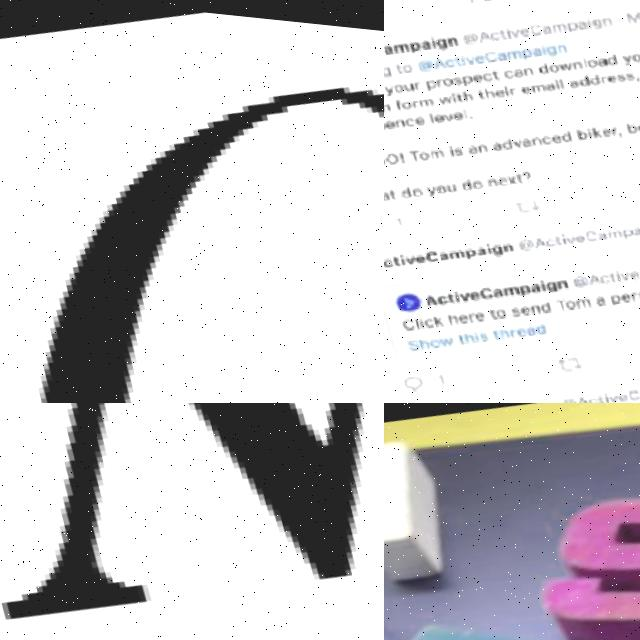1: (431, 370, 439, 380), (392, 212, 398, 223)
A: (581, 265, 597, 279), (418, 290, 433, 303), (429, 52, 443, 65), (417, 35, 430, 47), (516, 130, 529, 142), (476, 24, 488, 37), (529, 229, 541, 242), (570, 389, 583, 401), (529, 40, 541, 52), (593, 48, 605, 60), (541, 74, 553, 86), (433, 246, 445, 258), (471, 240, 483, 252), (539, 17, 550, 29), (493, 45, 504, 57), (510, 61, 521, 73), (565, 70, 576, 82), (489, 135, 500, 147), (592, 222, 603, 234), (487, 281, 498, 293), (525, 275, 536, 287), (590, 287, 601, 299), (520, 319, 531, 331), (575, 12, 586, 23), (463, 139, 474, 150), (628, 219, 638, 228), (384, 40, 391, 52), (633, 379, 640, 391), (511, 397, 524, 403)
B: (572, 120, 585, 133), (623, 112, 635, 125)
C: (34, 77, 384, 403), (525, 16, 539, 30), (580, 221, 594, 235), (419, 246, 434, 259), (480, 45, 494, 58), (473, 281, 487, 294), (396, 315, 409, 328), (620, 381, 634, 393), (478, 65, 491, 77), (537, 128, 550, 140), (440, 52, 452, 64), (500, 62, 512, 74), (400, 112, 412, 124), (539, 229, 551, 241), (431, 289, 443, 301), (594, 265, 606, 277), (417, 313, 429, 325), (581, 388, 594, 399), (487, 24, 498, 36), (632, 257, 640, 269), (384, 253, 388, 265)
D: (556, 121, 569, 136), (455, 171, 468, 186), (396, 181, 408, 196), (534, 55, 547, 68), (575, 67, 587, 80), (497, 131, 509, 144), (529, 316, 541, 329), (603, 45, 614, 58), (586, 65, 597, 78), (534, 295, 545, 307)
E: (468, 67, 481, 79), (490, 81, 503, 93), (409, 250, 422, 262), (463, 285, 476, 297), (471, 48, 483, 60), (449, 105, 461, 117), (597, 119, 609, 131), (493, 170, 505, 182), (451, 308, 463, 320), (469, 305, 481, 317), (514, 298, 526, 310), (517, 20, 528, 32), (603, 65, 614, 77), (411, 111, 422, 123), (548, 126, 559, 138), (624, 260, 635, 272), (615, 283, 626, 295), (510, 320, 521, 332), (611, 383, 622, 395), (517, 78, 528, 89), (570, 226, 581, 237), (384, 115, 392, 127), (430, 110, 440, 119), (633, 113, 640, 124)
F: (391, 95, 399, 107)
G: (540, 272, 553, 287), (543, 38, 556, 51), (433, 33, 445, 46), (588, 10, 600, 23), (486, 239, 498, 252), (527, 396, 540, 403), (384, 63, 388, 76)
H: (384, 421, 480, 610), (480, 81, 492, 94), (493, 321, 505, 334), (458, 84, 470, 97), (459, 327, 470, 340), (443, 308, 454, 320), (413, 334, 424, 346)
I: (537, 36, 545, 50), (426, 32, 434, 45), (393, 250, 401, 263), (533, 272, 541, 285), (583, 9, 590, 21), (457, 49, 464, 61), (551, 71, 558, 83), (467, 326, 474, 338), (502, 22, 509, 33), (501, 79, 508, 90), (443, 140, 450, 151), (480, 238, 487, 249), (609, 262, 616, 273), (583, 119, 589, 131), (414, 313, 420, 325), (556, 226, 562, 238), (449, 88, 455, 99), (448, 286, 454, 297), (597, 386, 603, 396), (521, 396, 528, 403), (636, 214, 640, 225)
K: (426, 311, 438, 323), (588, 118, 599, 131)
L: (556, 71, 562, 82), (409, 314, 415, 324), (580, 50, 585, 61), (460, 104, 464, 115), (425, 108, 429, 118)
M: (496, 278, 515, 292), (389, 38, 407, 52), (548, 14, 566, 28), (502, 42, 520, 56), (442, 242, 460, 256), (570, 288, 588, 302), (623, 1, 640, 15), (415, 92, 431, 105), (527, 76, 544, 87), (602, 221, 619, 232), (425, 145, 441, 155), (384, 98, 389, 111), (483, 401, 502, 403)
N: (0, 403, 384, 640), (551, 271, 564, 283), (444, 30, 456, 42), (599, 8, 610, 20), (554, 36, 565, 48), (570, 52, 581, 64), (390, 114, 401, 126), (474, 137, 485, 149), (528, 129, 539, 141), (483, 172, 494, 183), (538, 393, 549, 403), (519, 61, 530, 70), (525, 298, 535, 307), (497, 237, 508, 245)
O: (384, 147, 396, 163), (414, 146, 427, 158), (559, 291, 572, 303), (422, 333, 435, 345), (389, 79, 401, 91), (583, 50, 595, 62), (407, 183, 419, 195), (467, 174, 479, 186), (489, 302, 501, 314), (439, 72, 450, 84), (628, 43, 639, 55), (432, 179, 443, 191), (546, 57, 557, 66), (399, 97, 410, 106), (399, 60, 410, 68)
P: (407, 37, 419, 50), (564, 13, 576, 26), (519, 41, 531, 54), (515, 277, 527, 290), (605, 285, 617, 298), (461, 243, 473, 255), (423, 75, 434, 88), (459, 69, 470, 82), (618, 220, 630, 231), (501, 400, 514, 403)
R: (505, 80, 514, 91), (608, 118, 617, 129), (504, 322, 513, 333), (432, 74, 441, 84), (407, 95, 416, 105), (462, 307, 470, 318), (625, 282, 633, 293), (410, 78, 418, 86), (597, 68, 605, 75)
S: (522, 449, 640, 640), (401, 335, 413, 348), (448, 141, 460, 153), (504, 299, 516, 311), (449, 70, 460, 82), (613, 63, 624, 75), (622, 62, 633, 74), (473, 325, 484, 337), (631, 280, 640, 292)
T: (549, 292, 563, 304), (405, 145, 417, 158), (450, 50, 459, 62), (488, 64, 497, 75), (472, 84, 481, 95), (384, 185, 393, 196), (442, 288, 451, 299), (591, 386, 600, 397), (496, 23, 505, 33), (392, 59, 400, 70), (511, 166, 519, 177), (387, 252, 395, 263), (550, 228, 558, 239), (483, 303, 491, 314), (451, 329, 459, 340), (487, 324, 495, 335), (452, 87, 460, 97), (604, 264, 612, 274)
U: (400, 78, 412, 89), (442, 179, 453, 188)
V: (452, 286, 466, 298), (461, 50, 474, 62), (439, 107, 451, 119), (509, 133, 520, 145), (400, 252, 412, 263), (615, 262, 626, 274), (561, 229, 572, 238), (508, 23, 518, 32), (603, 388, 613, 397)
W: (554, 53, 572, 67), (433, 331, 449, 344), (434, 90, 450, 101)
X: (502, 168, 514, 180)
Y: (619, 45, 631, 57), (422, 181, 434, 193), (384, 80, 391, 95)
